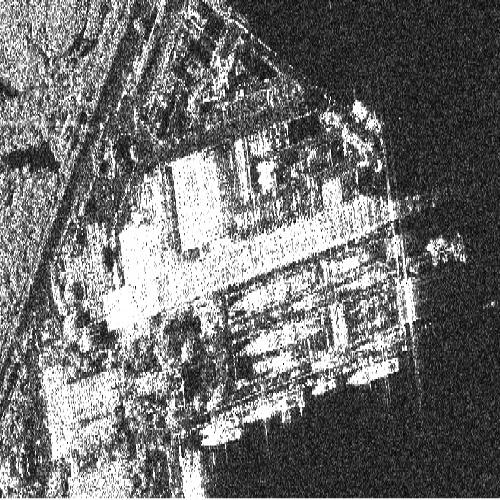ship: (242, 392, 305, 424), (346, 356, 400, 387), (199, 415, 241, 437), (200, 427, 243, 448), (311, 378, 338, 397)
